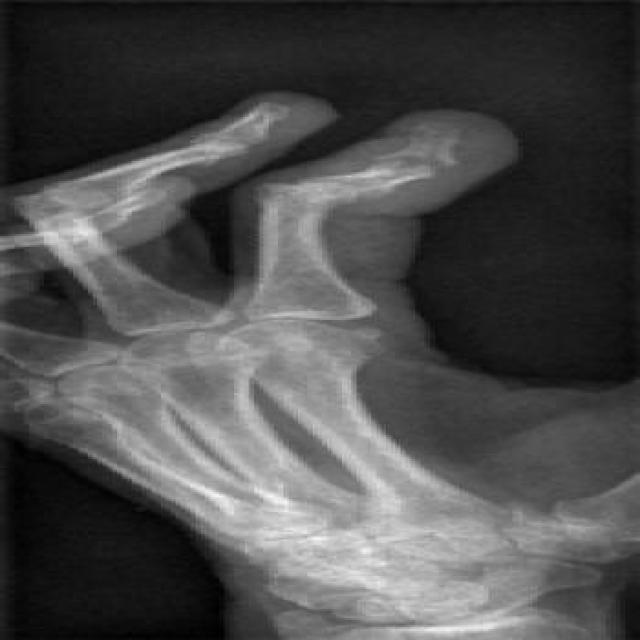Fracture: (319, 154, 486, 199)
